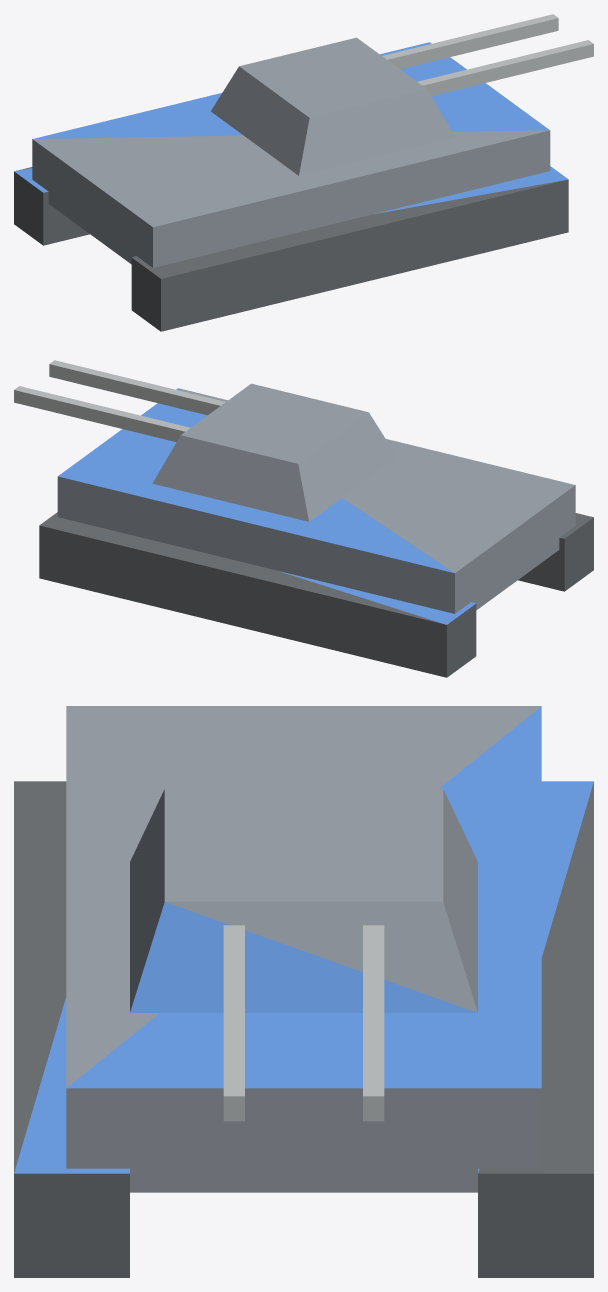
Rendered from veyran_heavy_tank.glb.
The picture shows the model from 3 angles, top to bottom: view 1: azimuth 30°, elevation 25°; view 2: azimuth 150°, elevation 25°; view 3: azimuth 270°, elevation 25°; orthographic projection. The views are drawn at different scales.
Parts seen in each view (by area): view 1: hull, turret, barrel; view 2: hull, turret, barrel; view 3: hull, turret, barrel.
Part boxes in pixels (x1=…): hull: x1=14, y1=42, x2=568, y2=331; turret: x1=211, y1=37, x2=455, y2=175; barrel: x1=382, y1=14, x2=593, y2=95; hull: x1=39, y1=388, x2=593, y2=677; turret: x1=152, y1=383, x2=396, y2=521; barrel: x1=14, y1=360, x2=225, y2=441; hull: x1=14, y1=706, x2=593, y2=1277; turret: x1=130, y1=788, x2=477, y2=1012; barrel: x1=223, y1=925, x2=384, y2=1121.
Size of the model in its own units: 7.25 by 2 by 3.8.
